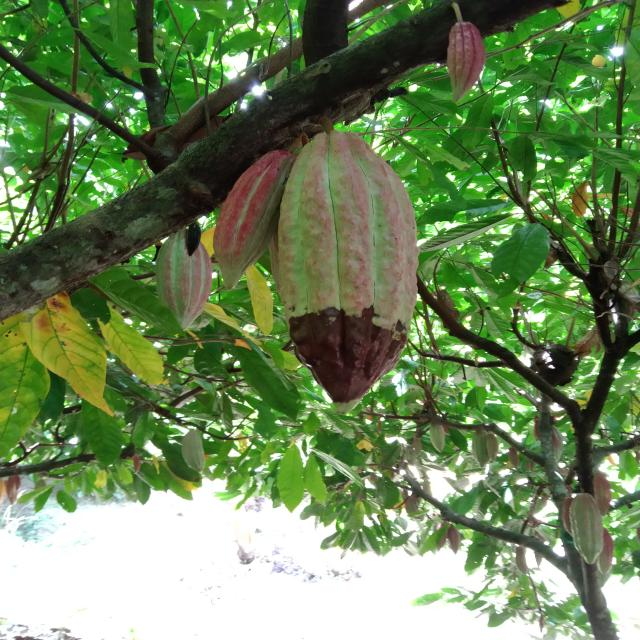Fitoftora: (280, 128, 412, 407)
Sana: (205, 142, 295, 270), (150, 234, 216, 330), (439, 23, 490, 99), (562, 495, 602, 567), (178, 435, 206, 476), (474, 430, 491, 468), (431, 424, 449, 454)
